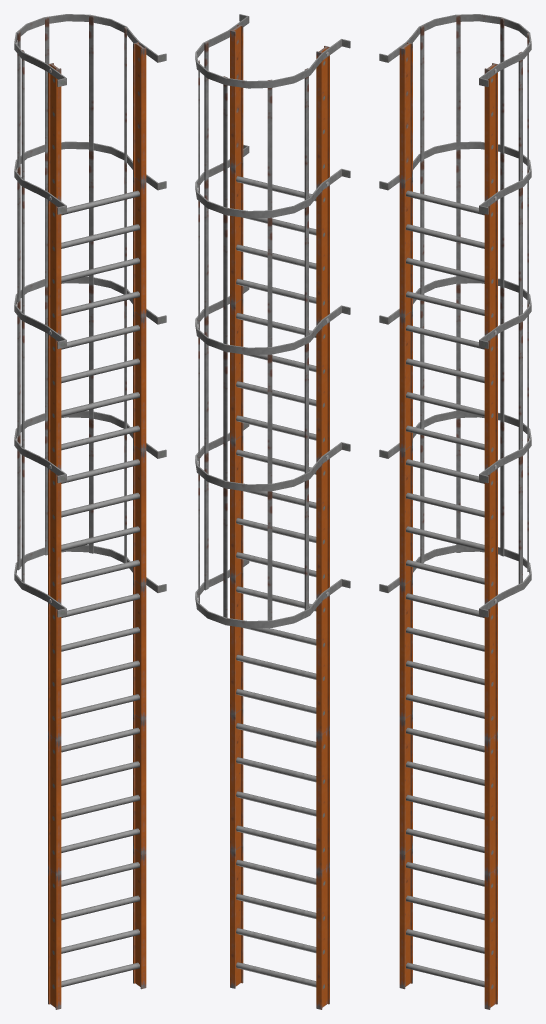
The model's file is LadderSection.001.fbx.
The picture shows the model from 3 angles, left to right: view 1: azimuth 30°, elevation 25°; view 2: azimuth 150°, elevation 25°; view 3: azimuth 330°, elevation 25°; orthographic projection.
Parts seen in each view (by area): view 1: Ladder_Section.001_LOD0; view 2: Ladder_Section.001_LOD0; view 3: Ladder_Section.001_LOD0.
Part boxes in pixels (bbox=[...]): Ladder_Section.001_LOD0: bbox=[14, 14, 166, 1009]; Ladder_Section.001_LOD0: bbox=[195, 14, 350, 1009]; Ladder_Section.001_LOD0: bbox=[379, 14, 531, 1009].
Size of what is drawn, in the model's own units: 0.8472 by 7 by 0.9229.
